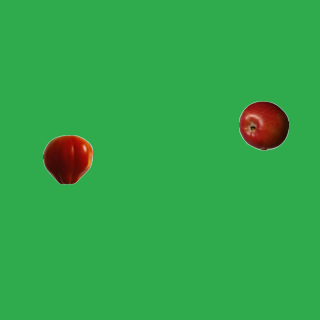Apple Braeburn: (238, 100, 288, 150)
Tomato 1: (42, 134, 92, 184)
